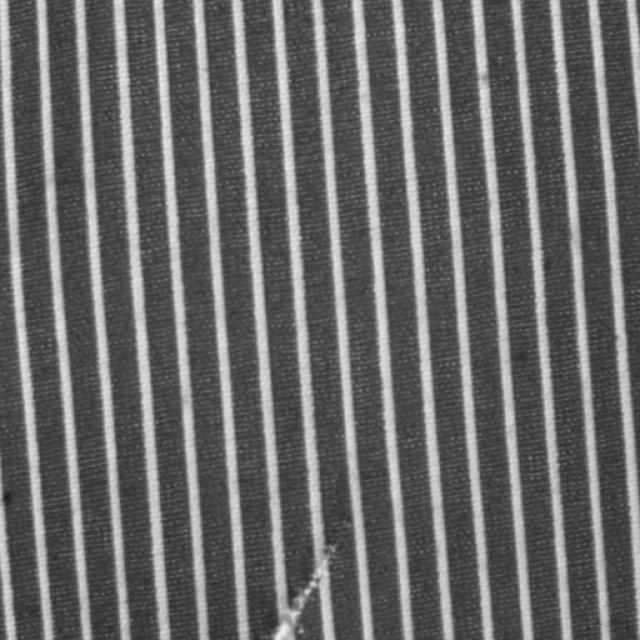Hole-Defect: (255, 544, 338, 639)
